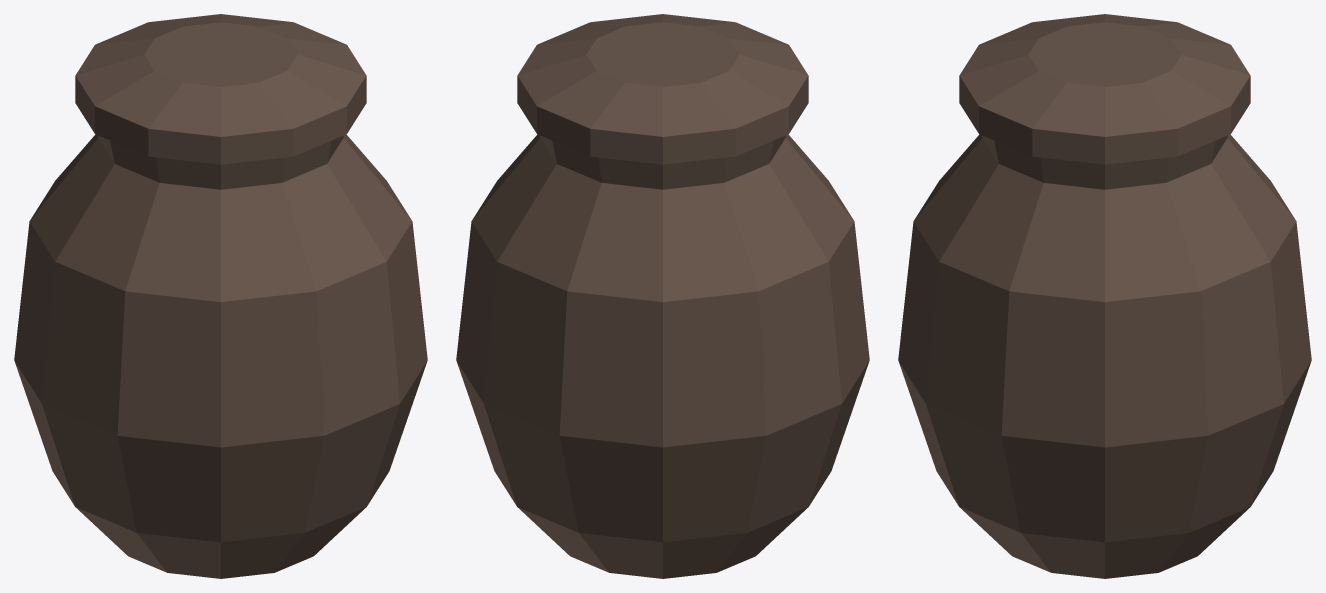
File: module_onggi_jar.glb
The picture shows the model from 3 angles, left to right: view 1: azimuth 30°, elevation 25°; view 2: azimuth 150°, elevation 25°; view 3: azimuth 270°, elevation 25°; orthographic projection.
Visible parts, largest first — view 1: onggi_jar, onggi_lid; view 2: onggi_jar, onggi_lid; view 3: onggi_jar, onggi_lid.
Part boxes in pixels (bbox=[...]): onggi_jar: bbox=[14, 134, 427, 578]; onggi_lid: bbox=[75, 14, 366, 164]; onggi_jar: bbox=[456, 134, 869, 578]; onggi_lid: bbox=[517, 14, 808, 164]; onggi_jar: bbox=[898, 134, 1311, 578]; onggi_lid: bbox=[959, 14, 1250, 164].
Size of the model in its own units: 0.54 by 0.69 by 0.54.
